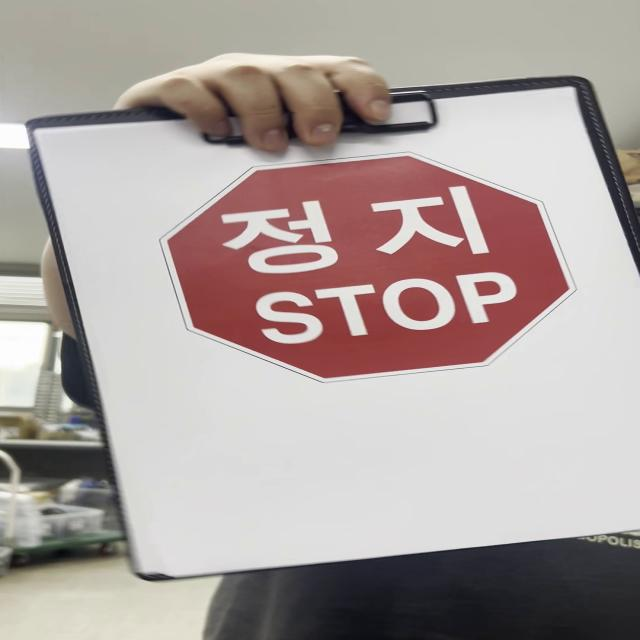stop: (155, 149, 583, 383)
